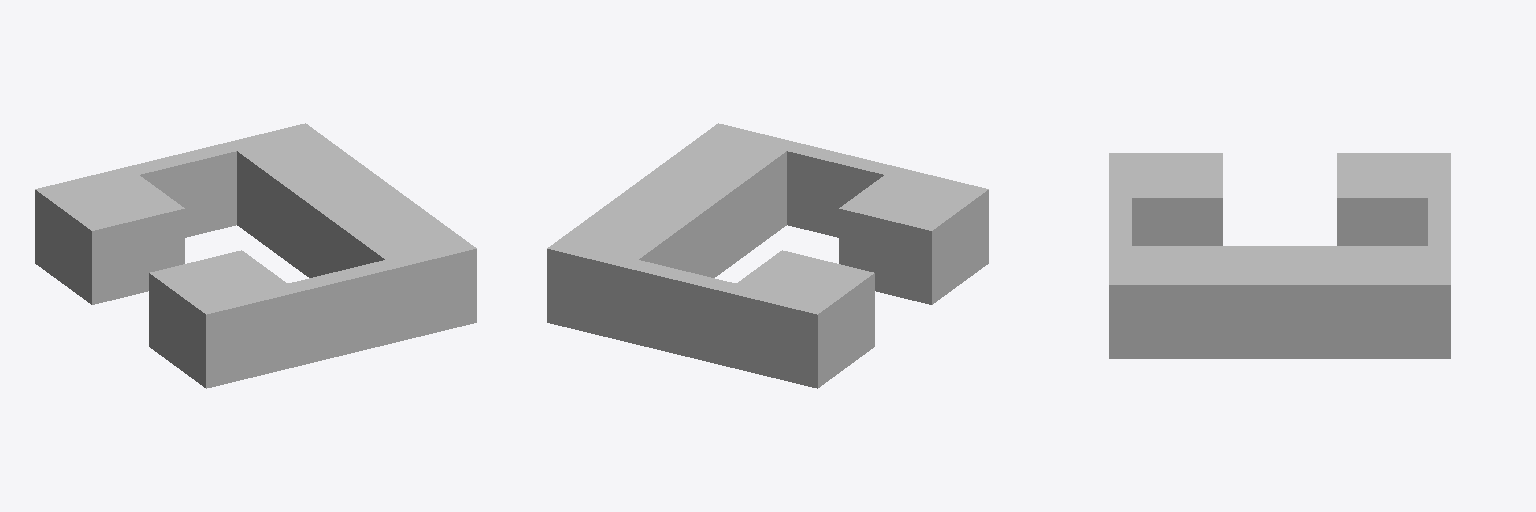
The model's file is EndMaze.obj.
3 views of the same model, side by side, from view 1: azimuth 30°, elevation 25°; view 2: azimuth 150°, elevation 25°; view 3: azimuth 270°, elevation 25° (orthographic).
Parts seen in each view (by area): view 1: Cube.006; view 2: Cube.006; view 3: Cube.006.
Part boxes in pixels (bbox=[...]): Cube.006: bbox=[35, 123, 476, 388]; Cube.006: bbox=[547, 123, 988, 388]; Cube.006: bbox=[1109, 153, 1450, 358].
Bounding box in the file's own units: 24.96 × 6.52 × 27.35.